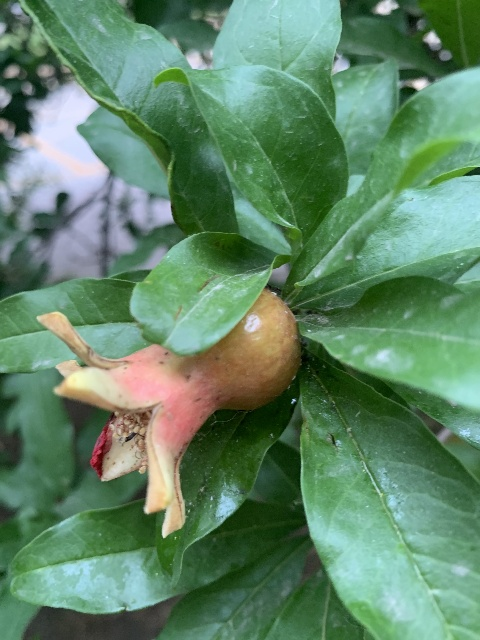early-fruit: (38, 287, 304, 541)
